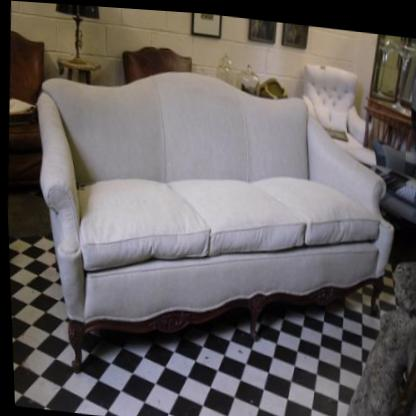Sofa: (19, 47, 404, 405), (288, 58, 374, 162)
